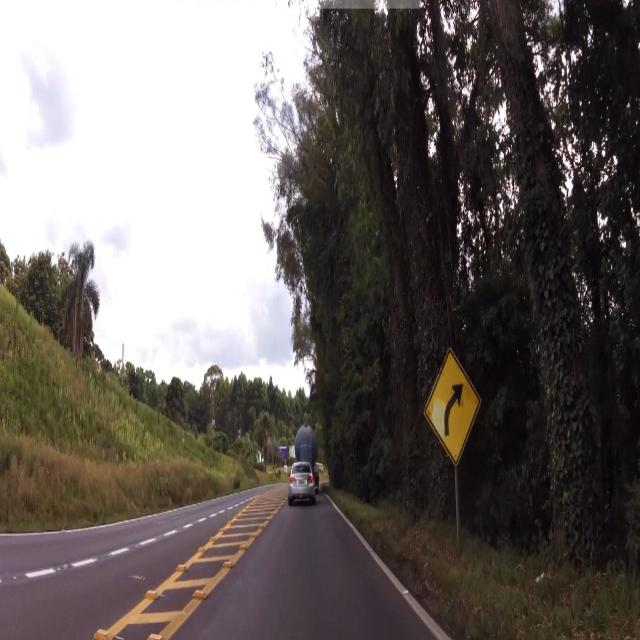A-2b: (420, 344, 484, 468)
